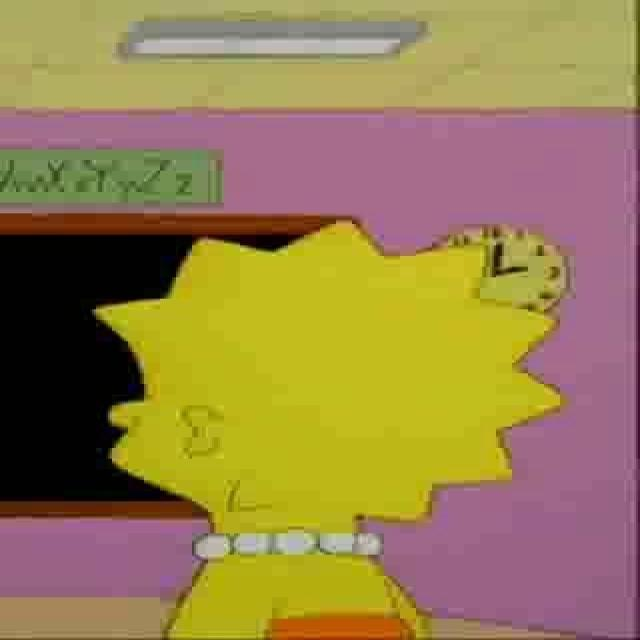Lisa Simpson: (85, 219, 567, 560)
